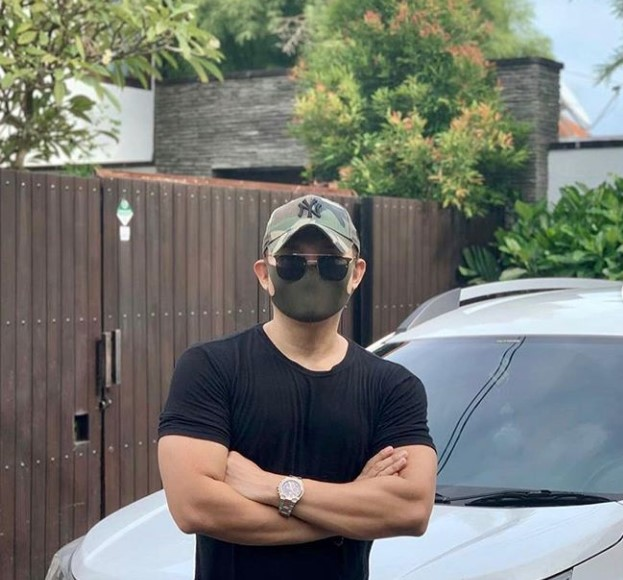face_with_mask: (255, 193, 368, 330)
